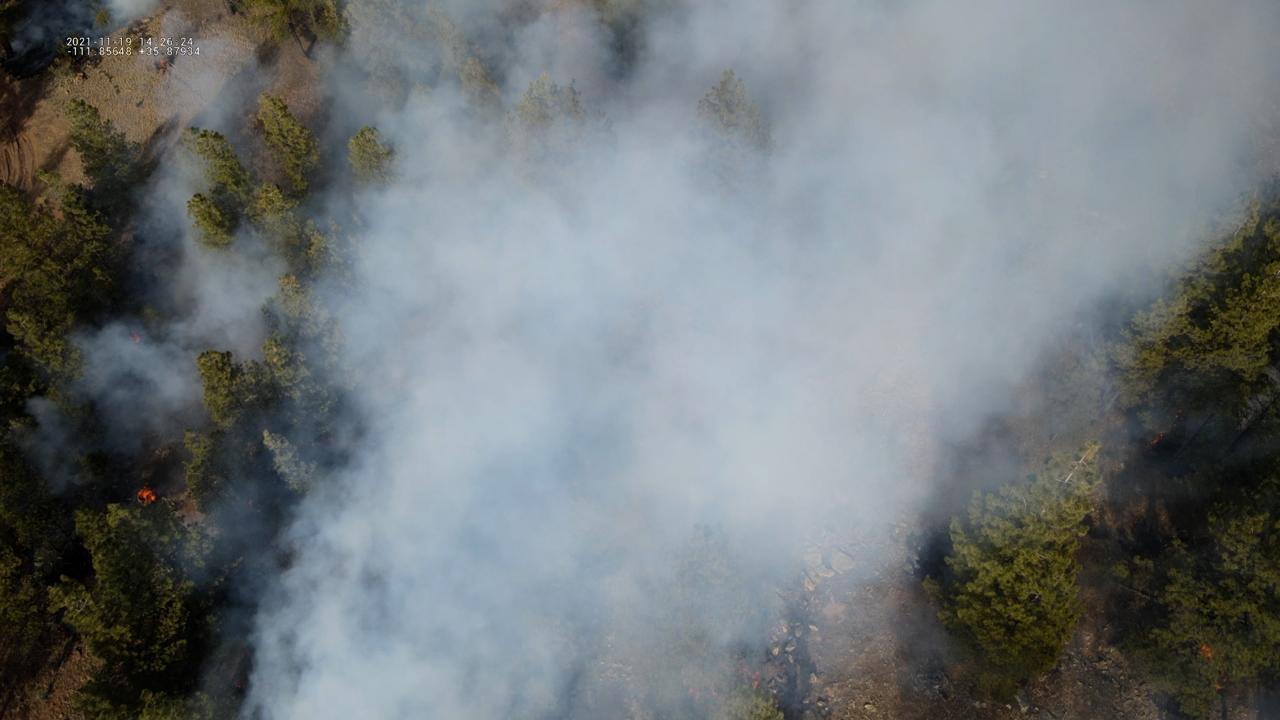fire: (134, 486, 157, 510), (126, 328, 143, 347), (1198, 643, 1214, 661), (157, 57, 167, 67)
smoke: (0, 0, 1280, 720)
